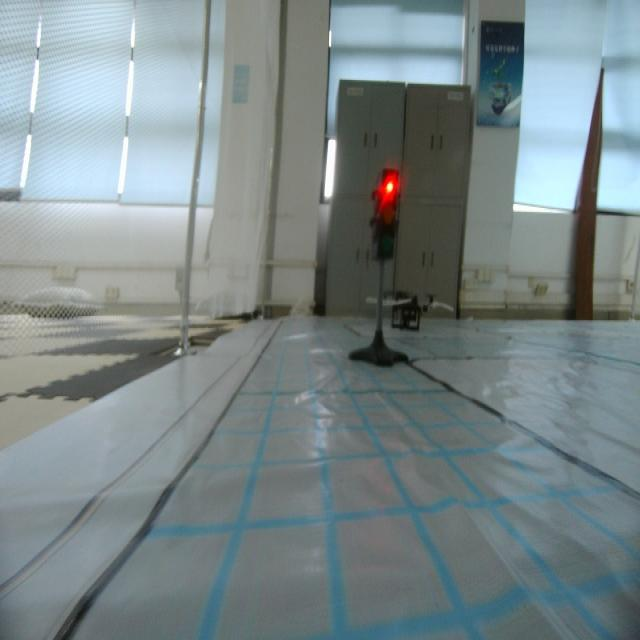red: (370, 167, 396, 272)
